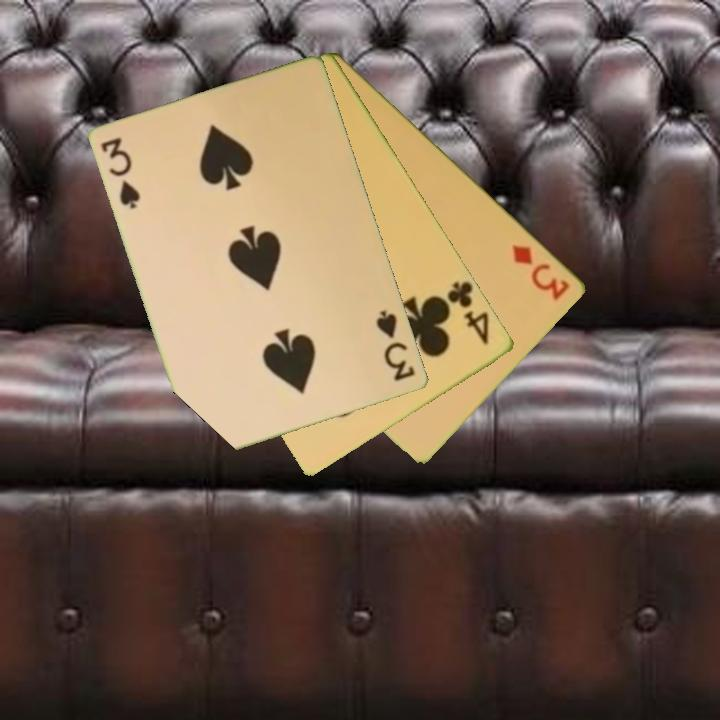3d: (508, 240, 574, 303)
3s: (373, 307, 419, 385), (98, 134, 144, 212)
4c: (440, 277, 493, 348)
